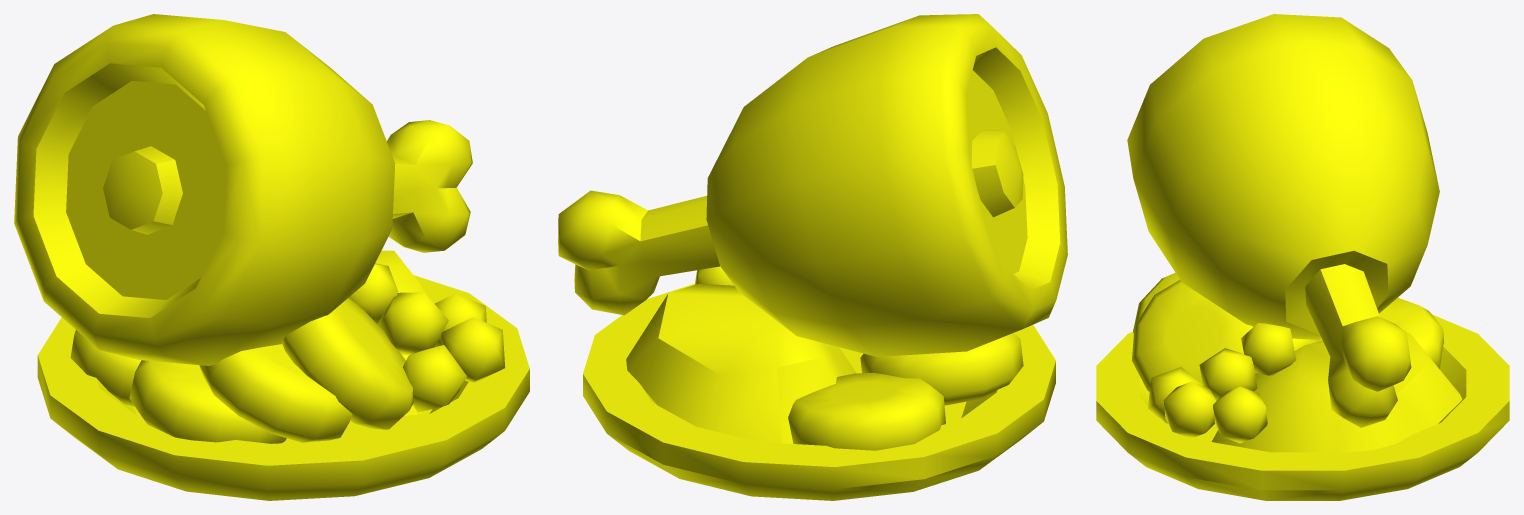
File: food_dinner.gltf
3 renders of one model, left to right at view 1: azimuth 30°, elevation 25°; view 2: azimuth 150°, elevation 25°; view 3: azimuth 270°, elevation 25°, orthographic. The views are drawn at different scales.
Parts seen in each view (by area): view 1: food_dinner; view 2: food_dinner; view 3: food_dinner.
Boxes of the visible parts, bbox=[...] form: food_dinner: bbox=[14, 14, 529, 500]; food_dinner: bbox=[558, 14, 1067, 500]; food_dinner: bbox=[1096, 14, 1509, 500].
Size of the model in its own units: 1.04 by 0.9078 by 0.95.
Materials: 1 (1 with a texture image).
